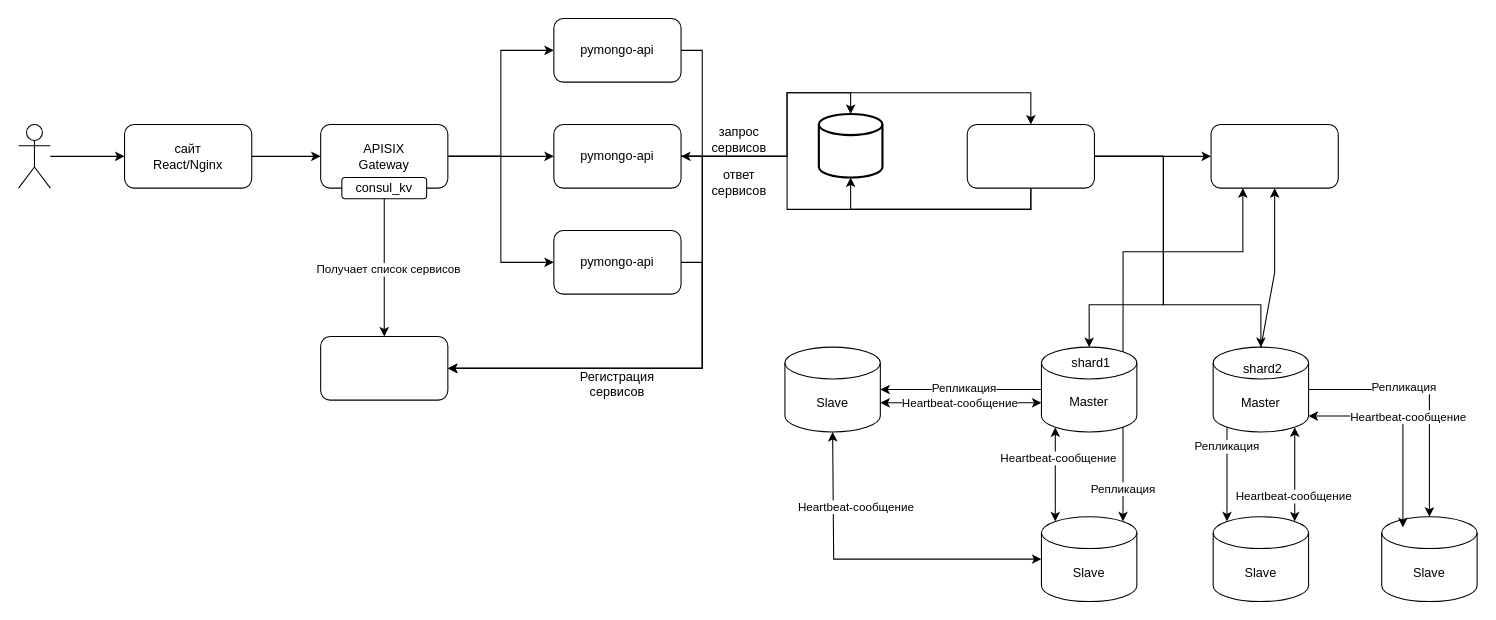
The diagram is 1496 pixels wide and 620 high, and some of its shapes have lost their labels. The centre of each missing label's shape, as x and y in pixels:
"Actor" belongs at [33,155].
"configSrv" belongs at [1274,155].
"Consul" belongs at [384,367].
"mongos_router" belongs at [1030,155].
"Redis" belongs at [850,145].
